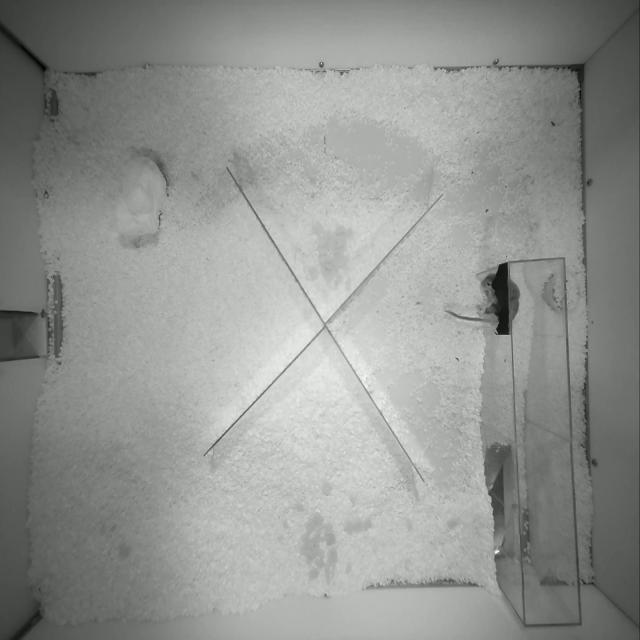adult_back: (482, 265, 519, 334), (447, 310, 488, 321)
